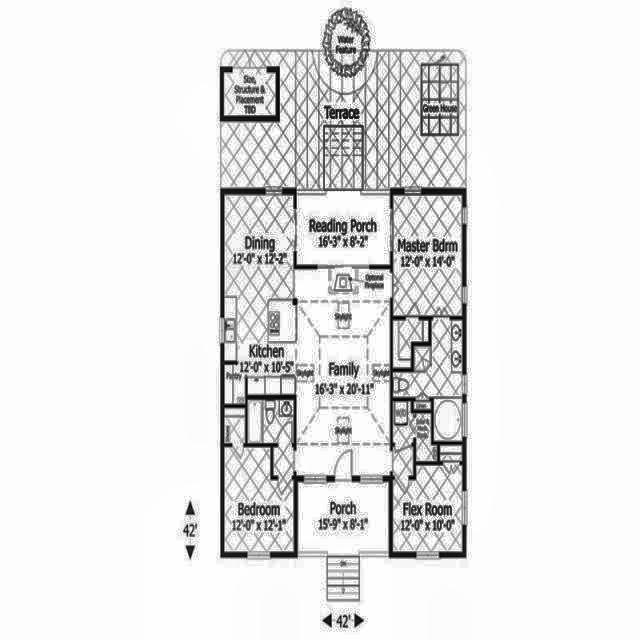room: (224, 195, 413, 475), (393, 319, 462, 441), (394, 196, 462, 315), (224, 447, 294, 552), (393, 445, 462, 551), (392, 400, 437, 461), (248, 400, 294, 442), (393, 319, 429, 368)
